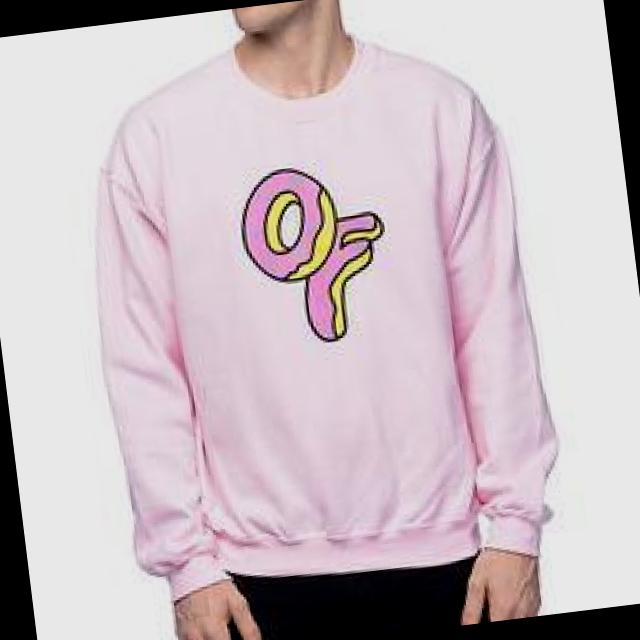sweater: (66, 14, 564, 608)
